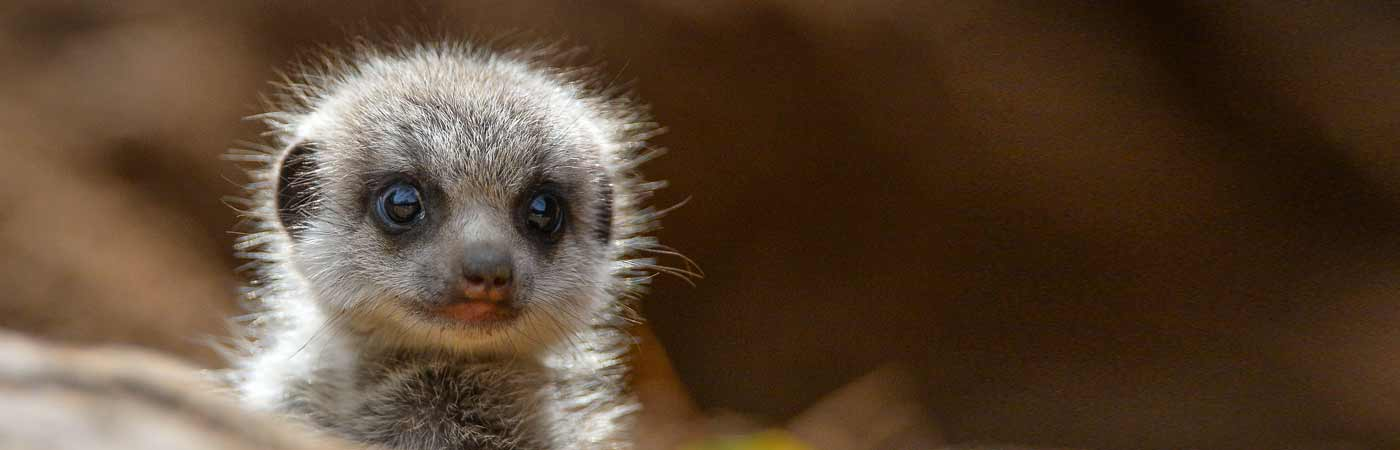meerkat: (218, 39, 682, 450)
